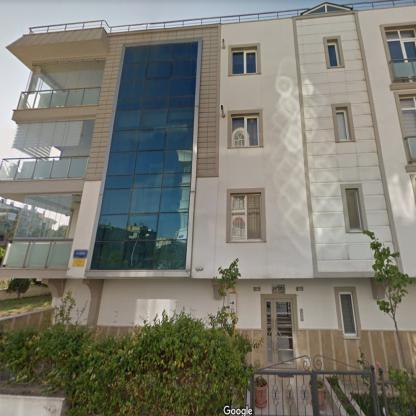door: (262, 296, 296, 368)
window: (87, 38, 200, 273), (2, 119, 94, 179), (20, 57, 106, 108), (15, 192, 72, 236), (229, 189, 263, 240), (384, 24, 416, 62), (230, 112, 262, 148), (229, 44, 259, 75), (344, 186, 364, 231), (396, 92, 416, 135), (339, 293, 357, 337), (334, 104, 353, 140), (325, 38, 343, 66)
